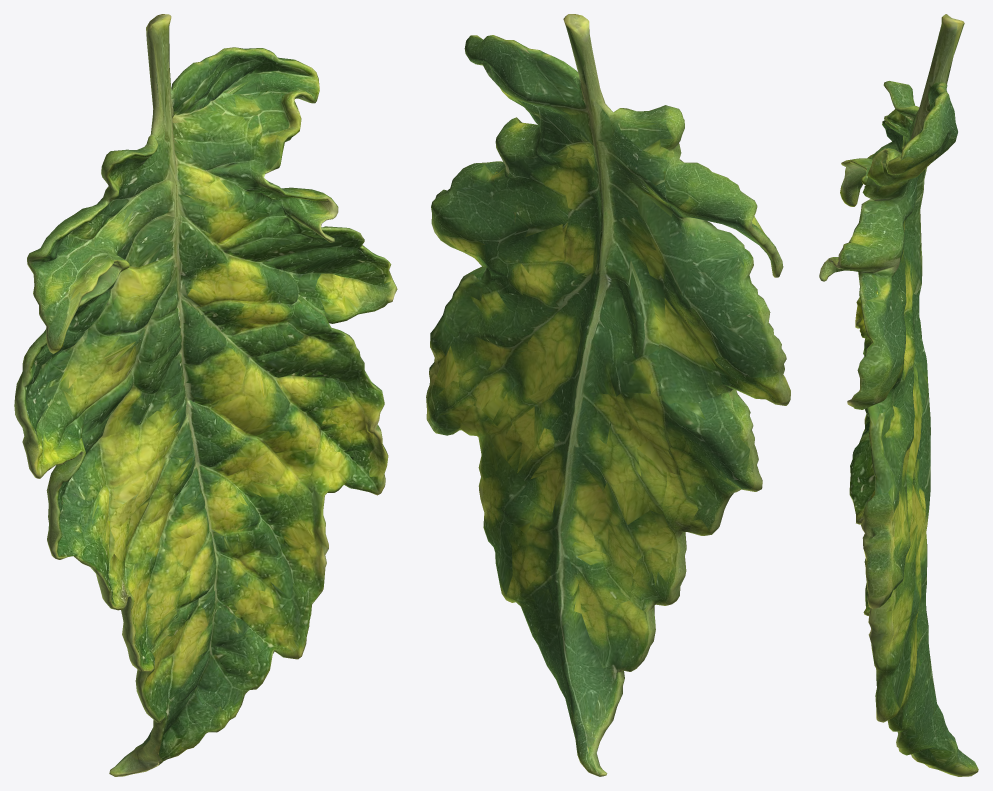
File: tomato_leaf_mold.glb
3 renders of one model, left to right at view 1: azimuth 30°, elevation 25°; view 2: azimuth 150°, elevation 25°; view 3: azimuth 270°, elevation 25°, orthographic. The views are drawn at different scales.
Parts seen in each view (by area): view 1: tomato_leaf_mold; view 2: tomato_leaf_mold; view 3: tomato_leaf_mold.
Boxes of the visible parts, left/top/right/bottom form: tomato_leaf_mold: left=14, top=14, right=397, bottom=776; tomato_leaf_mold: left=426, top=14, right=790, bottom=776; tomato_leaf_mold: left=819, top=14, right=978, bottom=776.
Bounding box in the file's own units: 0.5053 × 1 × 0.187.
1 material, 1 textured.
